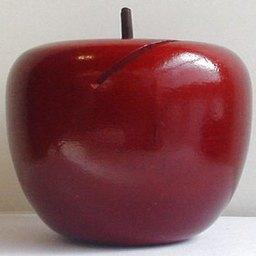apple: (3, 23, 252, 249)
